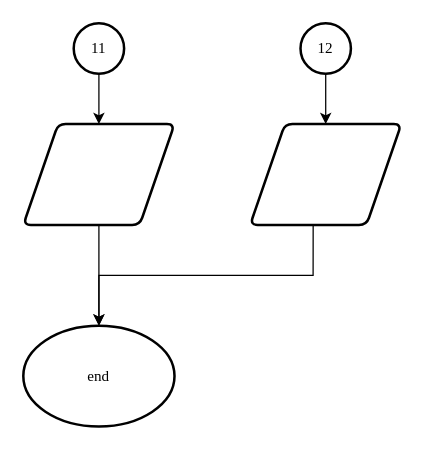
Some shapes in this 423 by 449 pixel diagram are drawn without their labels. The centre of each missing label's shape, as x and y in pixels:
error: n > 13: the point at 325,174
output: deviation: the point at 98,174
